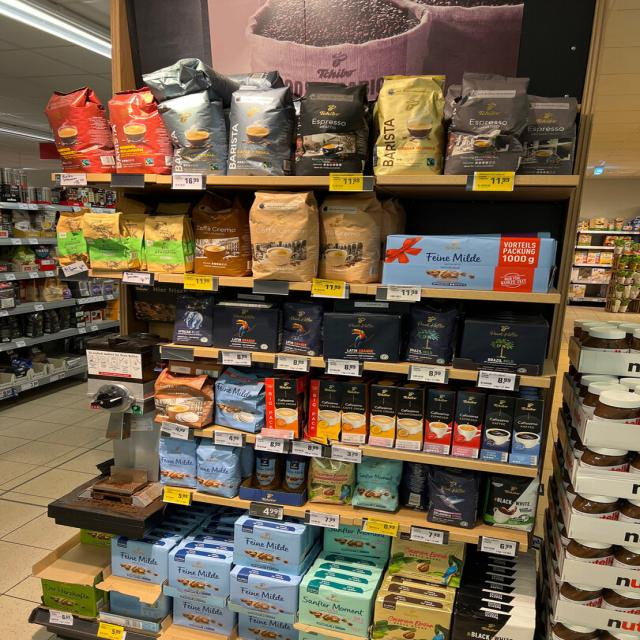AB Bohne: (172, 292, 215, 348)
Athiopien Bohne: (55, 207, 91, 270)
Athiopien Gemahlen: (82, 212, 142, 272), (142, 212, 194, 274)
BM Bohne: (404, 304, 461, 367)
BM Gemahlen: (460, 319, 549, 376)
BW Bohne: (479, 473, 541, 533)
BW Gemahlen: (449, 610, 537, 639)
Barista CB: (372, 72, 448, 176)
Barista CC: (156, 87, 229, 177), (226, 85, 296, 176)
Barista Kolumbien: (42, 85, 119, 176), (106, 84, 176, 176)
C Fino Bohne: (424, 468, 476, 531)
CC Mild: (248, 188, 320, 286), (315, 190, 384, 286)
CC Vollmundig: (152, 368, 216, 429)
CC Vollmundig 36 Pads: (189, 191, 250, 278)
Colombia BB Bohne: (306, 456, 357, 507)
Colombia BB Gemahlen: (388, 531, 467, 590), (372, 597, 454, 639)
Espresso Aromatisch: (444, 70, 532, 177), (519, 94, 577, 176)
Espresso Kraftig: (294, 81, 369, 178)
FM 36 Pads: (213, 367, 266, 436)
FM Bohne: (195, 443, 241, 500), (157, 438, 197, 488)
FM Gemahlen: (227, 571, 298, 625), (231, 522, 302, 575), (165, 552, 232, 608), (111, 538, 171, 585), (171, 597, 236, 638)
FM Instant: (249, 449, 283, 492), (278, 454, 310, 495)
Herzhatfe Mundig: (40, 578, 98, 618)
LG Bohne: (281, 300, 324, 358)
LG Gemahlen: (322, 313, 401, 364), (212, 304, 279, 355)
SM Bohne: (348, 456, 405, 515)
SM Gemahlen: (297, 583, 371, 639), (322, 526, 391, 559)
Simo CCMild: (308, 380, 341, 442), (368, 385, 397, 447)
Simo CCVollmundig: (264, 378, 298, 439), (341, 382, 367, 444)
Simo Decaff: (395, 388, 424, 451)
Simo Es Elegant: (450, 390, 487, 459)
Simo Es Kraft: (423, 390, 455, 455)
Simo Kaffee Kraft: (479, 395, 517, 463)
Simo Kaffee Mild: (508, 397, 545, 467)
